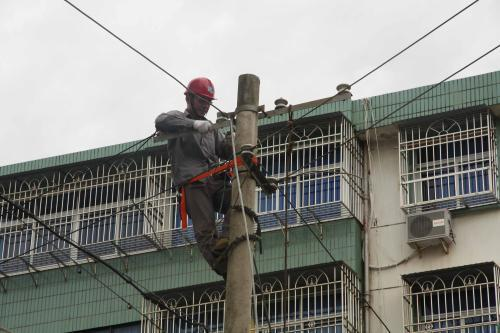helmet: (182, 74, 219, 119)
